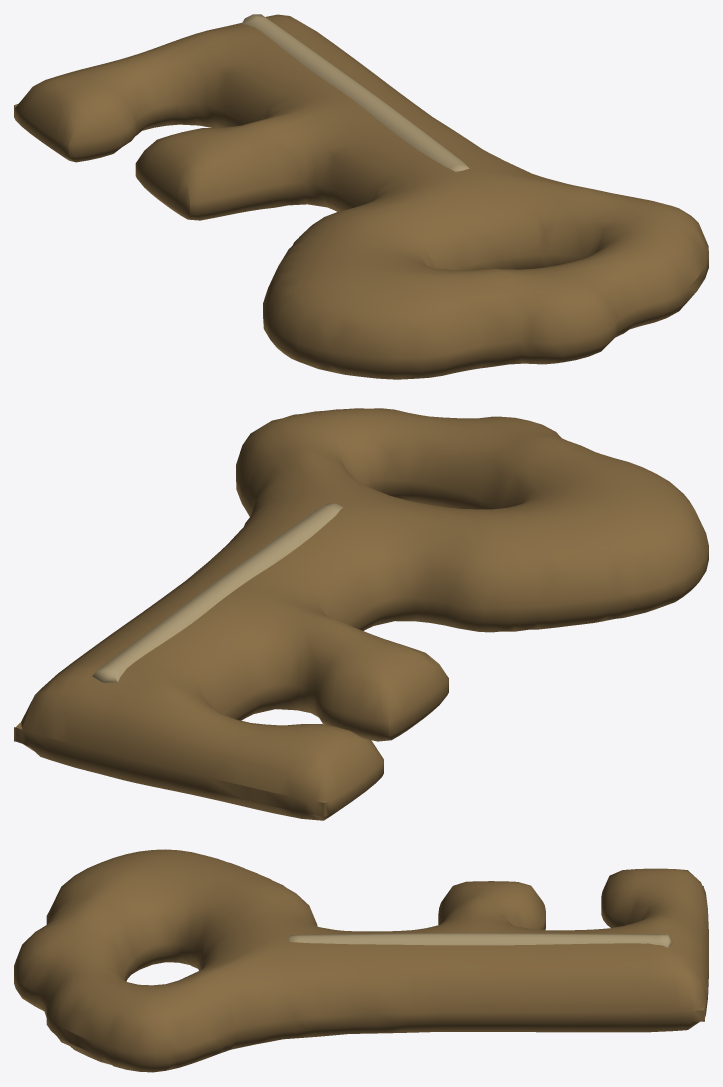
Rendered from key_gold.glb.
The picture shows the model from 3 angles, top to bottom: view 1: azimuth 30°, elevation 25°; view 2: azimuth 150°, elevation 25°; view 3: azimuth 270°, elevation 25°; orthographic projection. The views are drawn at different scales.
Parts seen in each view (by area): view 1: key_body, key_ridge; view 2: key_body, key_ridge; view 3: key_body, key_ridge.
Boxes of the visible parts, box(x1,y1,x2,y2) form: key_body: box(14, 14, 708, 379); key_ridge: box(241, 14, 469, 171); key_body: box(14, 408, 708, 820); key_ridge: box(92, 503, 342, 682); key_body: box(14, 849, 708, 1072); key_ridge: box(288, 933, 672, 947).
Size of the model in its own units: 13.3 by 2.84 by 21.3.
